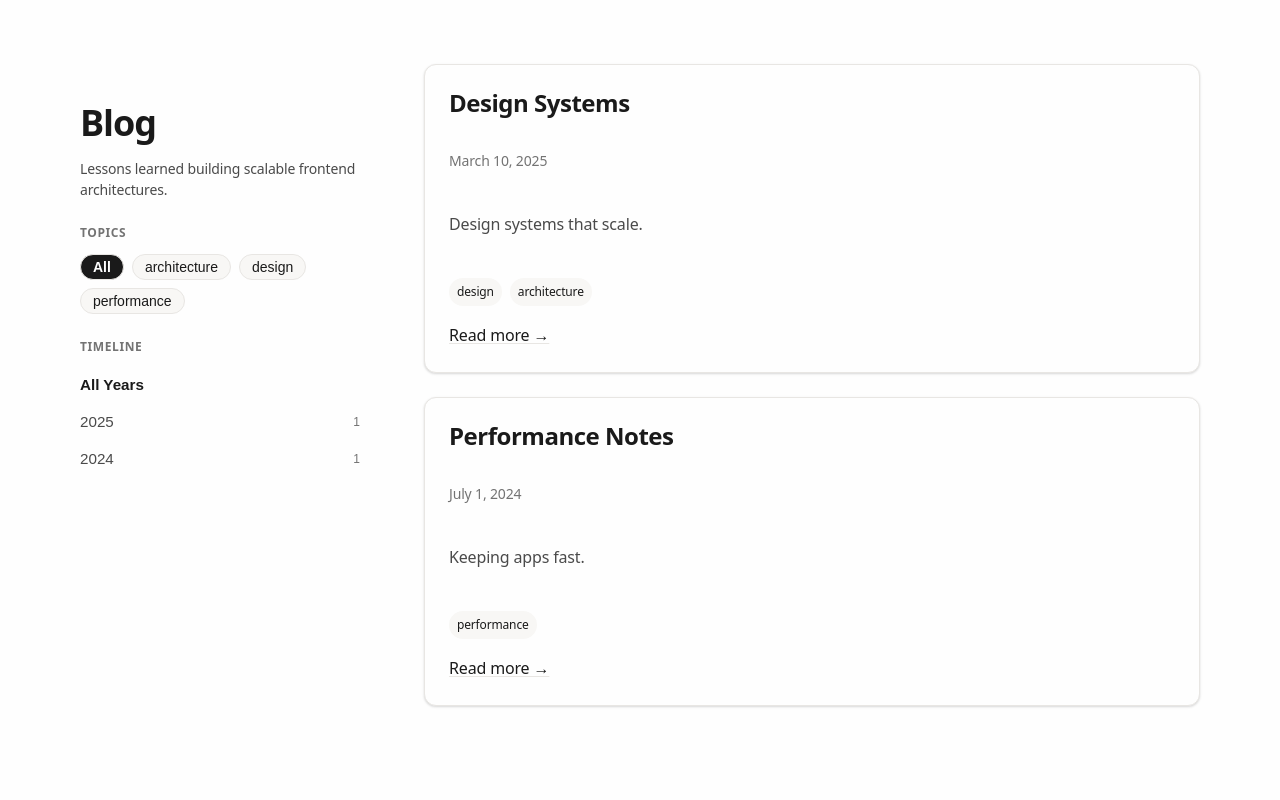
it: BlogIndexClient › filters posts by year
Button now shows "2024 1" (year + count), so we use a regex
Click the button "2024 1": (97, 458) [80,442,360,475]
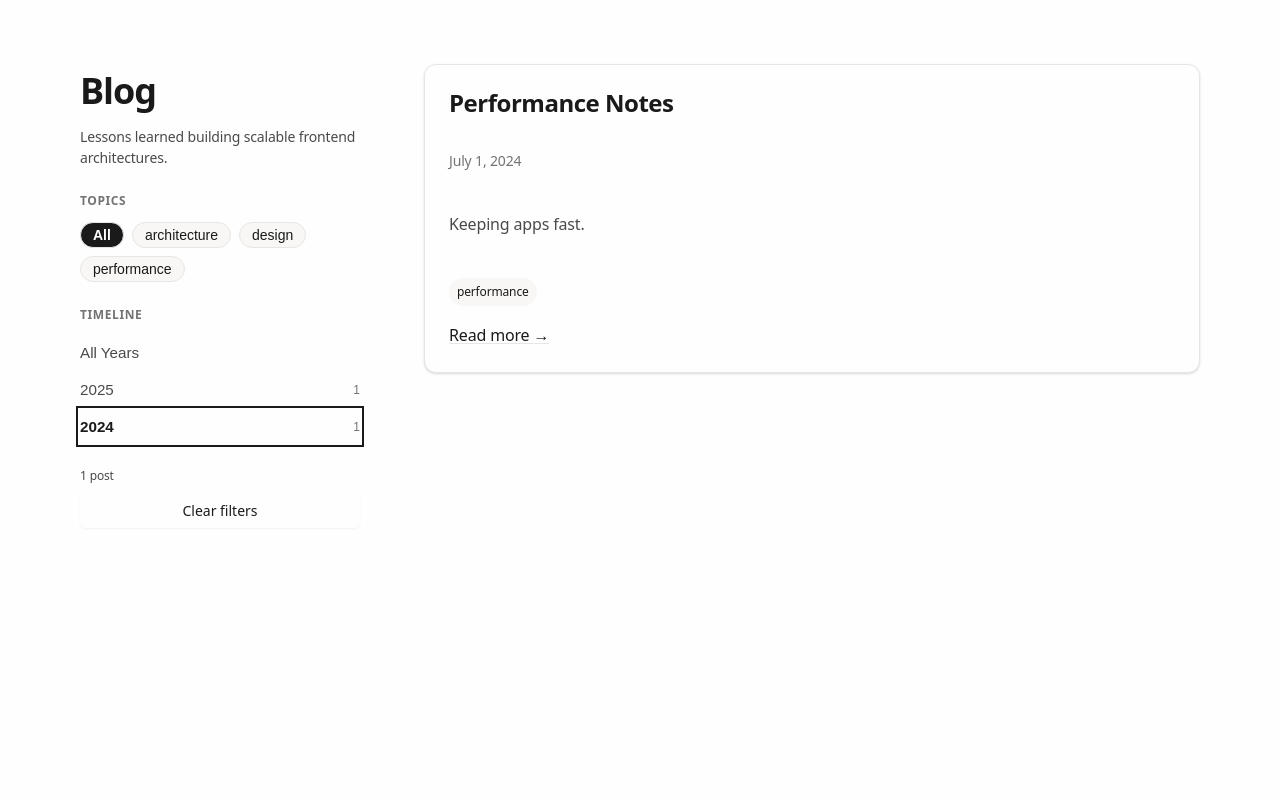
Check: the heading "Performance Notes" is shown, box [449,86,674,119]
Check: the link "Design Systems" is gone
